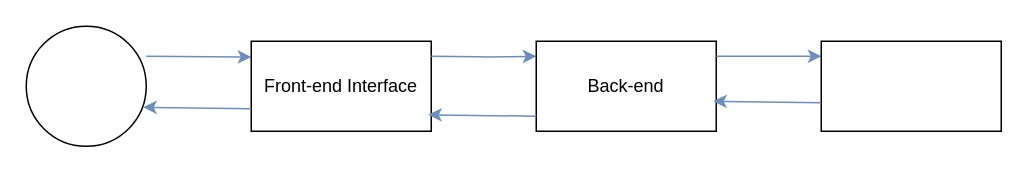
This 1028x173 diagram has some shape labels left out. The shapes that lost their labels are listed below. From the top down, each one's centre as x and y in pixels, then its label:
At [85,85]: "User".
At [910,85]: "APIs".
